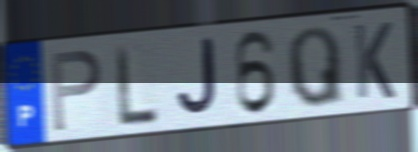6: (233, 28, 279, 118)
J: (174, 36, 221, 120)
K: (350, 19, 398, 102)
L: (113, 42, 161, 130)
P: (48, 47, 104, 135)
Q: (284, 24, 347, 111)
